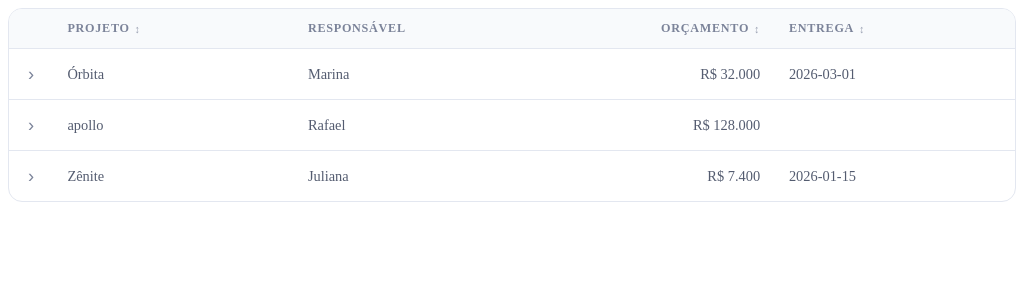
it: BdTableComponent › linhas expansíveis › revela o detalhe da linha com o conteúdo projetado
Click the button with class "bd-table__expand" next to "Órbita": (31, 74) [19,61,43,87]
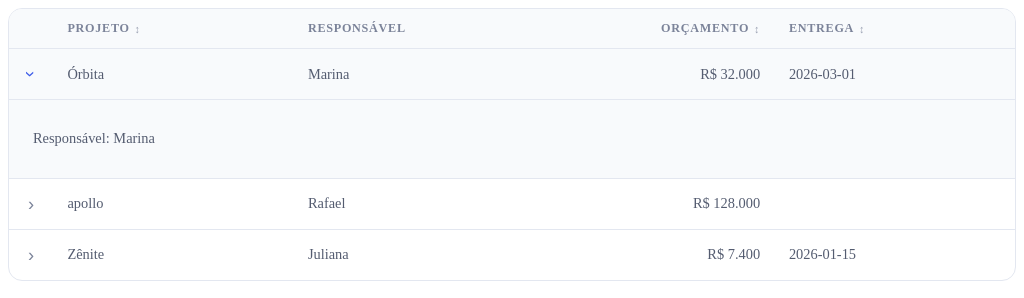
Result: the row with class "bd-table__detail" is shown at [9,99,1015,178]
Result: the row with class "bd-table__detail" reads "Responsável: Marina" at [33,130,155,146]
